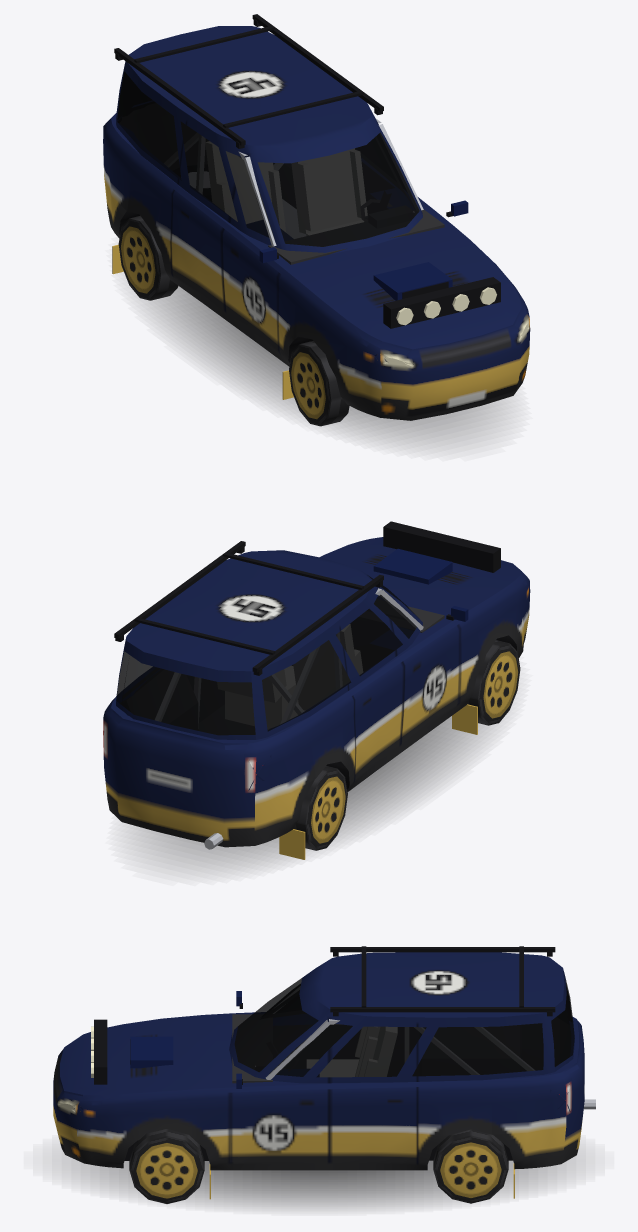
File: borrasca.glb
The picture shows the model from 3 angles, top to bottom: view 1: azimuth 30°, elevation 25°; view 2: azimuth 150°, elevation 25°; view 3: azimuth 270°, elevation 25°; orthographic projection. The views are drawn at different scales.
Visible parts, largest first — view 1: Carroceria, Interior, Capo_malha, Sombra, Porta_TD_malha, Porta_D_malha, Roda_DD, Roda_TD, Tampa_malha; view 2: Carroceria, Tampa_malha, Interior, Sombra, Capo_malha, Porta_TD_malha, Porta_D_malha, Roda_TD, Roda_DD; view 3: Carroceria, Interior, Porta_TE_malha, Sombra, Capo_malha, Porta_E_malha, Roda_DE, Roda_TE, Tampa_malha, Porta_D_malha.
Part boxes in pixels (x1,y1,x2,y2): Carroceria: (103, 14, 530, 420); Interior: (120, 103, 444, 264); Capo_malha: (297, 234, 526, 355); Sombra: (143, 286, 506, 446); Porta_TD_malha: (171, 114, 249, 312); Porta_D_malha: (222, 153, 281, 351); Roda_DD: (289, 341, 349, 426); Roda_TD: (118, 215, 178, 300); Tampa_malha: (118, 72, 154, 122); Carroceria: (103, 541, 530, 859); Tampa_malha: (108, 641, 255, 829); Interior: (120, 588, 444, 734); Sombra: (131, 716, 493, 870); Capo_malha: (324, 521, 526, 611); Porta_TD_malha: (339, 586, 404, 782); Porta_D_malha: (377, 587, 468, 745); Roda_TD: (293, 766, 347, 850); Roda_DD: (467, 640, 520, 725); Carroceria: (53, 946, 595, 1199); Interior: (138, 987, 570, 1140); Porta_TE_malha: (329, 1012, 417, 1164); Sombra: (61, 1151, 576, 1208); Capo_malha: (64, 1016, 216, 1100); Porta_E_malha: (230, 1016, 329, 1163); Roda_DE: (129, 1129, 204, 1203); Roda_TE: (433, 1129, 508, 1203); Tampa_malha: (550, 968, 584, 1144); Porta_D_malha: (236, 984, 301, 1016).
Size of the model in its own units: 2.42 by 1.84 by 5.42.
Materials: 14 (5 with a texture image).
